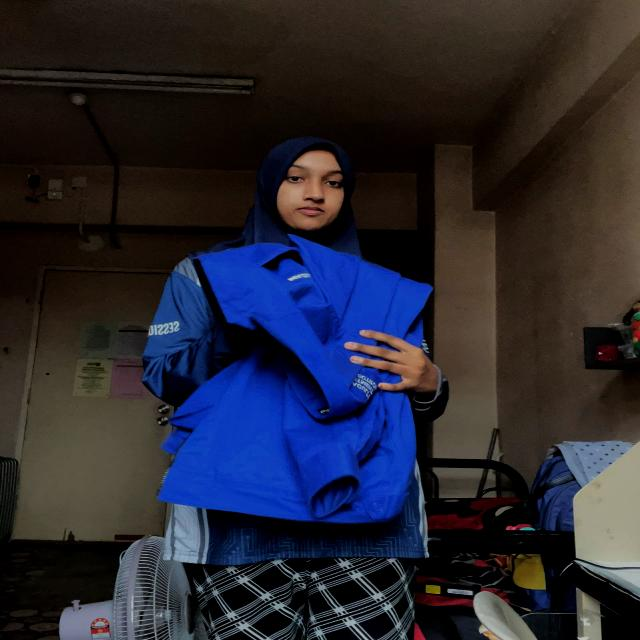person_without_labcoat: (143, 137, 448, 640)
